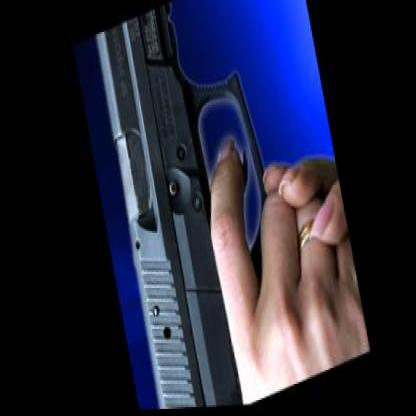pistol: (79, 0, 299, 411)
